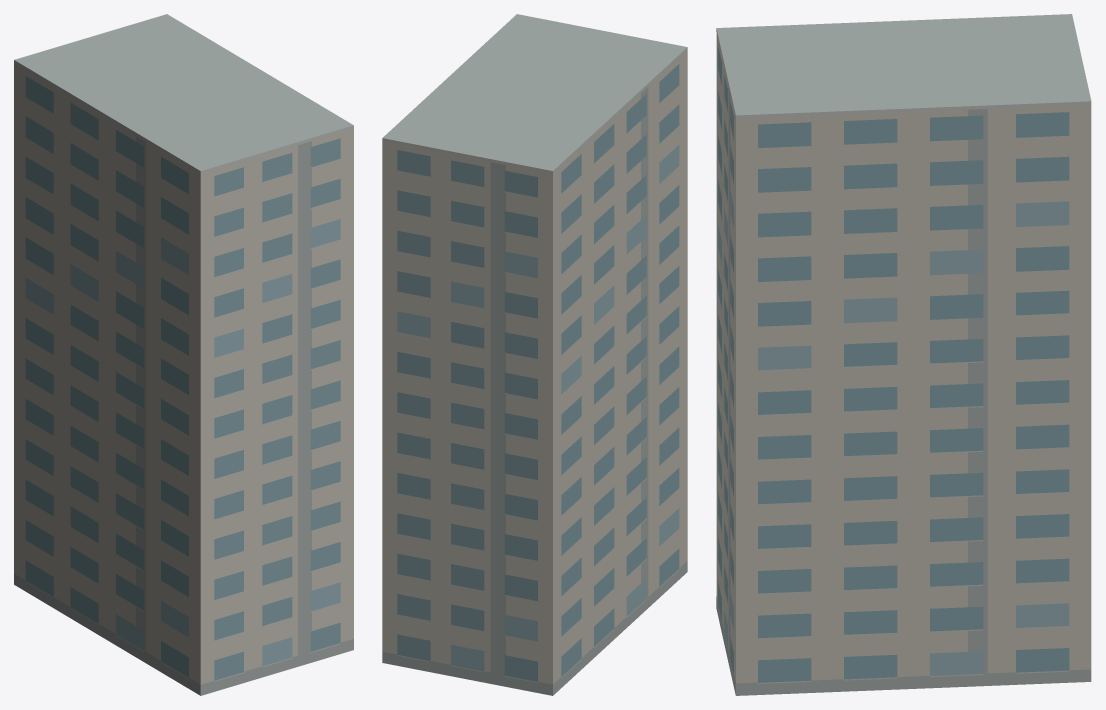
File: residential-4f30efc5-163c-475a-9231-824a4e265531.glb
3 renders of one model, left to right at view 1: azimuth 30°, elevation 25°; view 2: azimuth 150°, elevation 25°; view 3: azimuth 270°, elevation 25°, orthographic. The views are drawn at different scales.
Parts seen in each view (by area): view 1: residential-4f30efc5-163c-475a-9231-824a4e265531.tmp; view 2: residential-4f30efc5-163c-475a-9231-824a4e265531.tmp; view 3: residential-4f30efc5-163c-475a-9231-824a4e265531.tmp.
Part boxes in pixels (x1,y1,x2,y2): residential-4f30efc5-163c-475a-9231-824a4e265531.tmp: [14, 14, 353, 695]; residential-4f30efc5-163c-475a-9231-824a4e265531.tmp: [382, 14, 687, 695]; residential-4f30efc5-163c-475a-9231-824a4e265531.tmp: [716, 14, 1091, 695].
Bounding box in the file's own units: 14.62 × 39 × 22.84.
